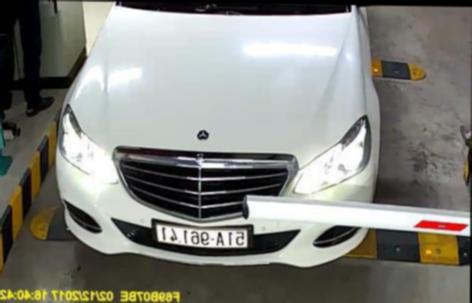License_Plate: (152, 218, 254, 250)
